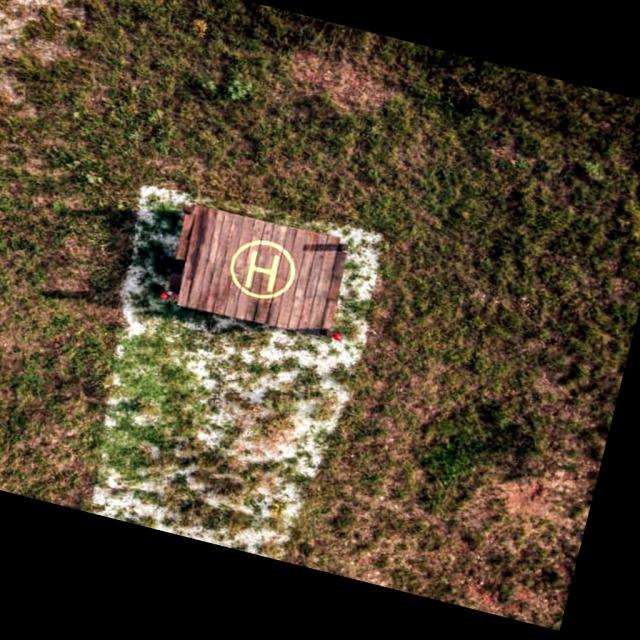helipad: (226, 238, 298, 302)
